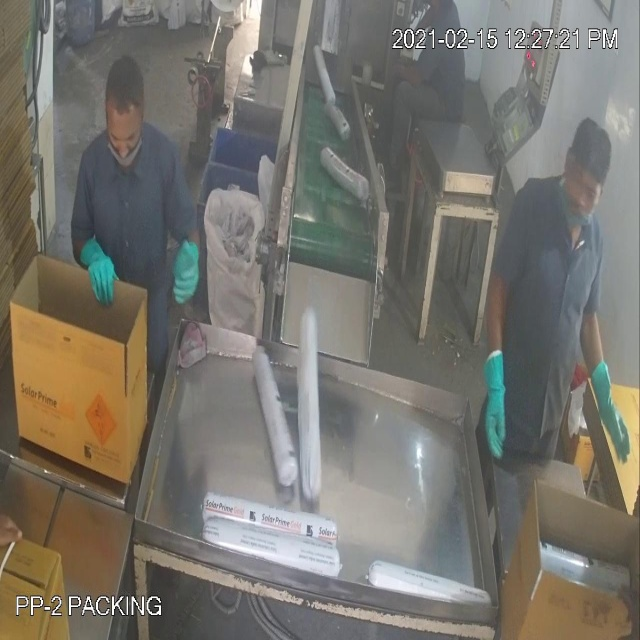Guantes: (590, 351, 640, 472), (482, 341, 517, 453), (172, 228, 213, 315), (82, 244, 130, 318)
Sin_guantes: (375, 47, 444, 100)
